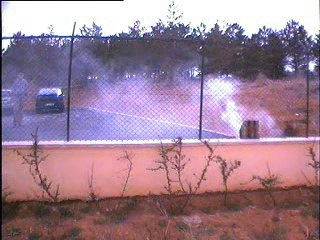smoke: (171, 53, 243, 137)
